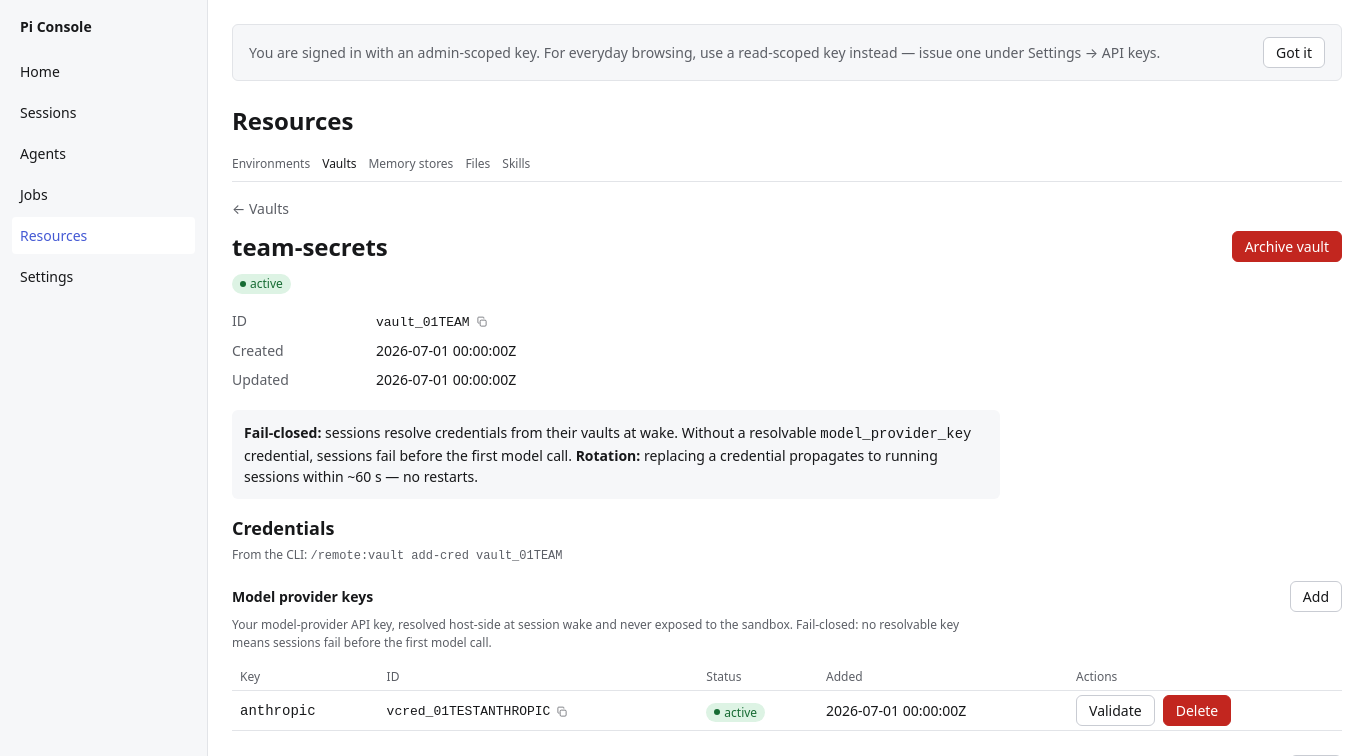
vault detail (§9.3, W11) › is axe-clean, including with the add dialog open
Click the button "Add" in the row of "Model provider keys". click: x=1316, y=597
box: [1290,581,1342,612]
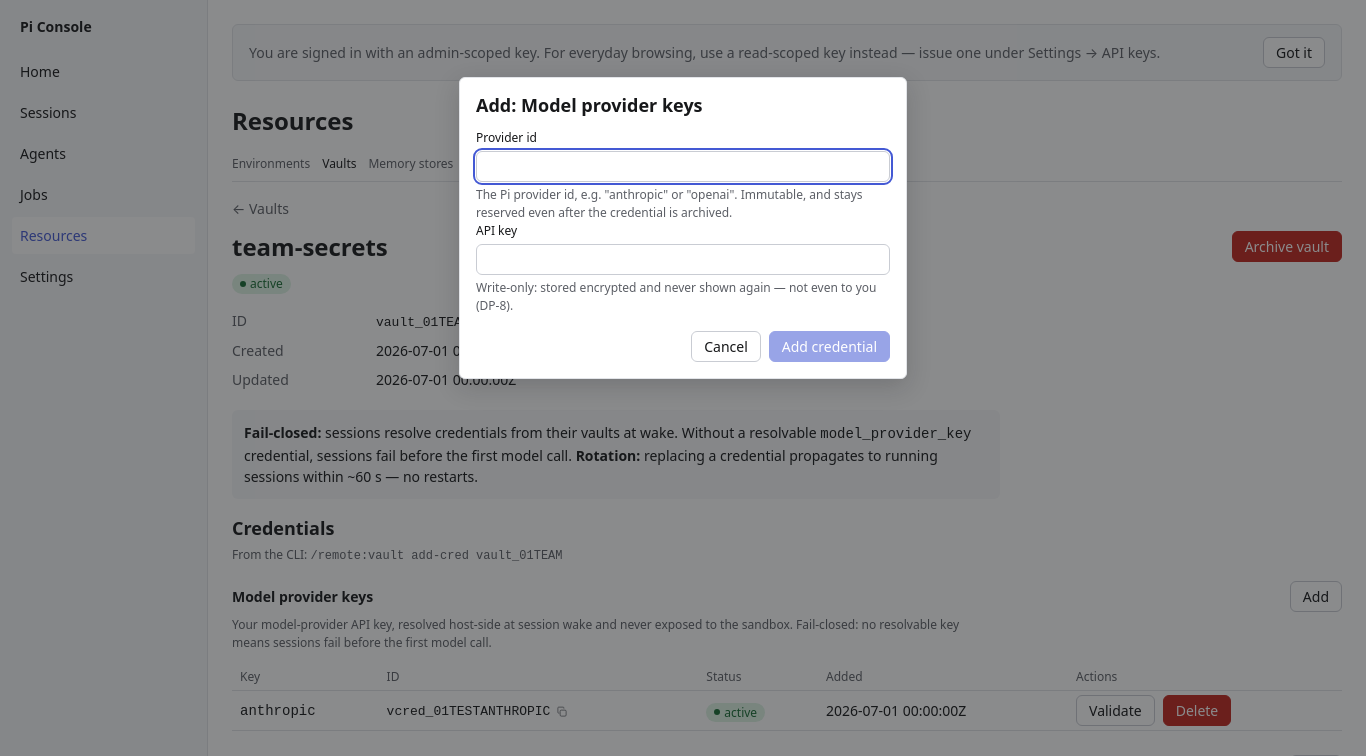
Expected: the dialog "Add: Model provider keys" is shown, [459,77,907,379]
